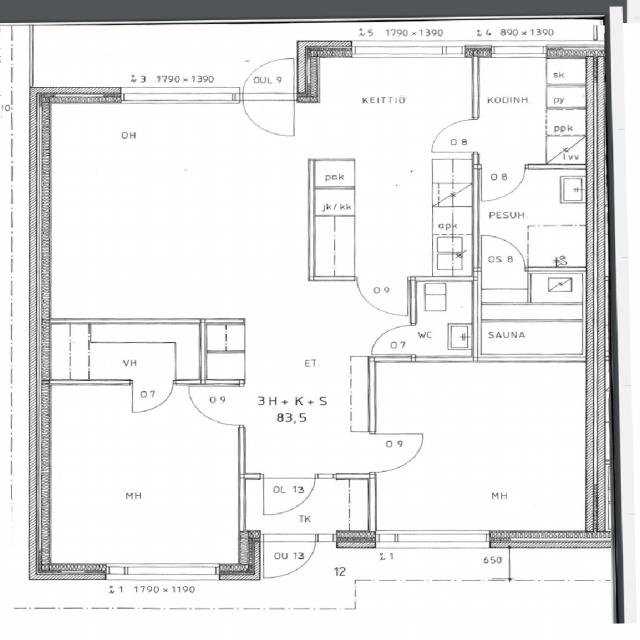door: (263, 529, 315, 586), (243, 87, 293, 141), (243, 49, 293, 103), (186, 386, 246, 425), (263, 473, 315, 518), (367, 434, 426, 472), (357, 275, 407, 319), (428, 119, 480, 152), (482, 234, 524, 274), (482, 164, 524, 202), (133, 379, 173, 414), (369, 325, 416, 354)
